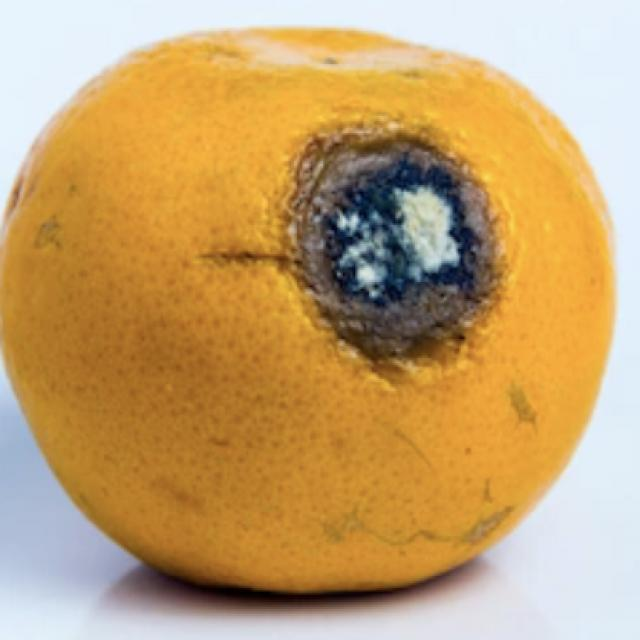rotten-orange: (0, 22, 619, 594)
